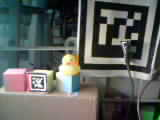duck: (53, 47, 85, 78)
